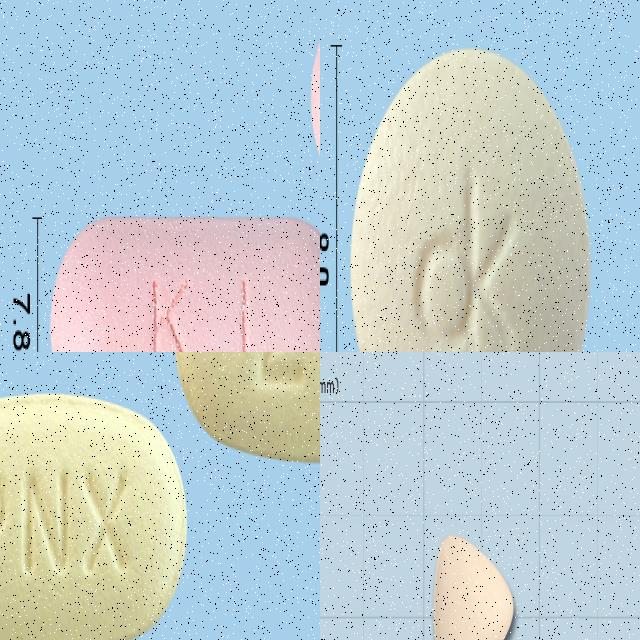Durova: (432, 533, 515, 640)
Levogun -250mg: (49, 214, 320, 352)
Levoracin: (352, 48, 590, 352)
Piclo Tab: (0, 395, 187, 640), (174, 352, 320, 463)
